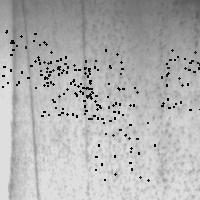pitted_surface: (87, 3, 200, 197), (76, 65, 136, 124), (95, 120, 154, 179), (65, 49, 121, 108), (35, 58, 90, 115), (43, 60, 95, 118), (0, 30, 50, 86), (161, 49, 200, 109)
